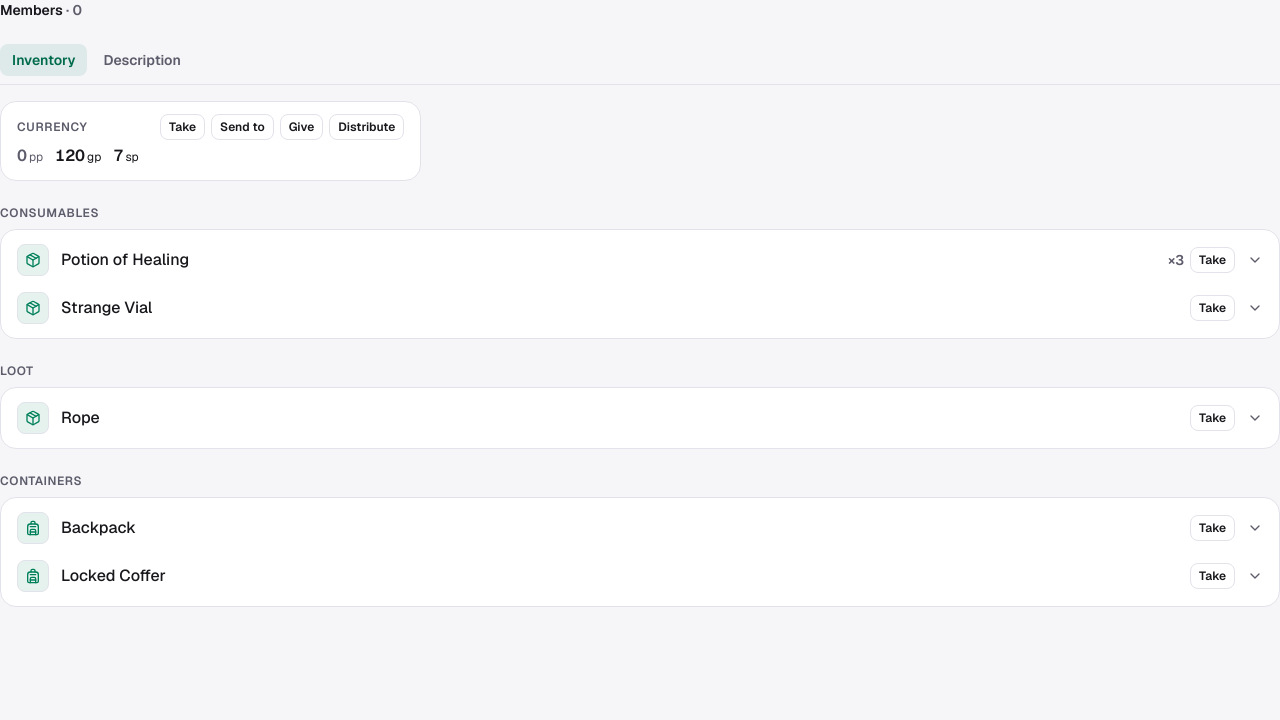
Test case: components/character-sheet/item-menu, on a party’s sheet › lets a slow tap on Take open Take, and no item menu
The image size is (1280, 720).
Right-click the button with aria-label "Take Rope" at (1213, 418), box [1190,405,1235,431]
Right-click the button with aria-label "Take Rope" at (1213, 418), box [1190,405,1235,431]
Press the mouse on the button with aria-label "Take Rope" at (1213, 418), box [1190,405,1235,431]
Click the button with aria-label "Take Rope" at (1213, 418), box [1190,405,1235,431]
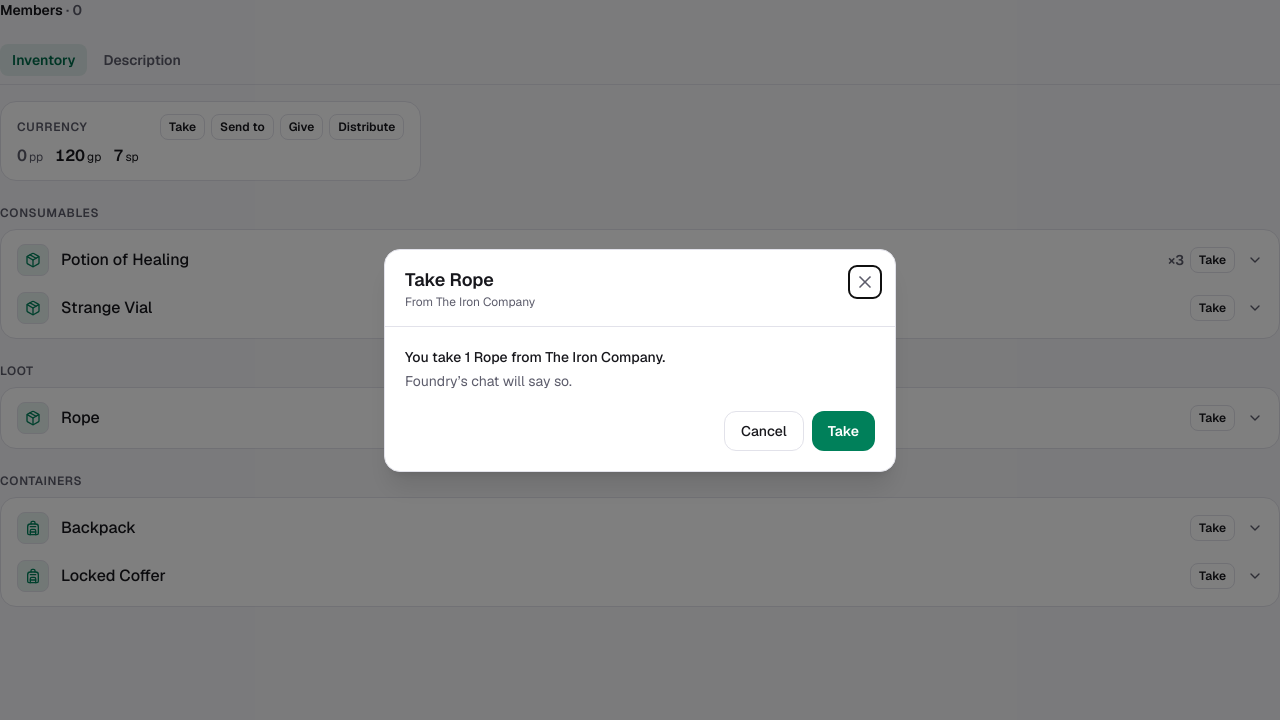
Now the dialog "Take Rope" is shown, box [384,248,896,472]
